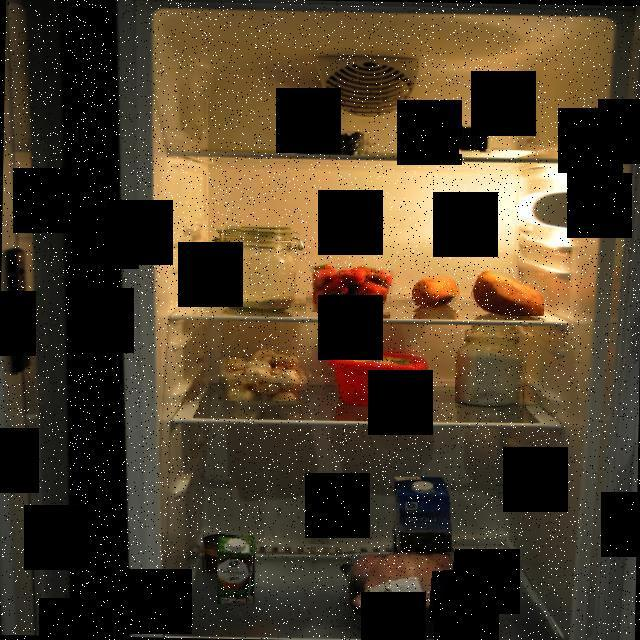blueberries: (282, 131, 376, 155)
butter: (324, 346, 429, 406)
cheese: (434, 120, 494, 154)
chicken: (338, 552, 482, 632)
corn: (201, 533, 248, 577)
flour: (198, 225, 306, 314)
heavy_cream: (218, 534, 255, 604)
milk: (390, 473, 452, 564)
mushrooms: (218, 344, 312, 402)
strawberries: (310, 260, 398, 312)
sugar: (455, 322, 528, 408)
sweet_potato: (470, 269, 544, 316), (412, 274, 460, 312)
